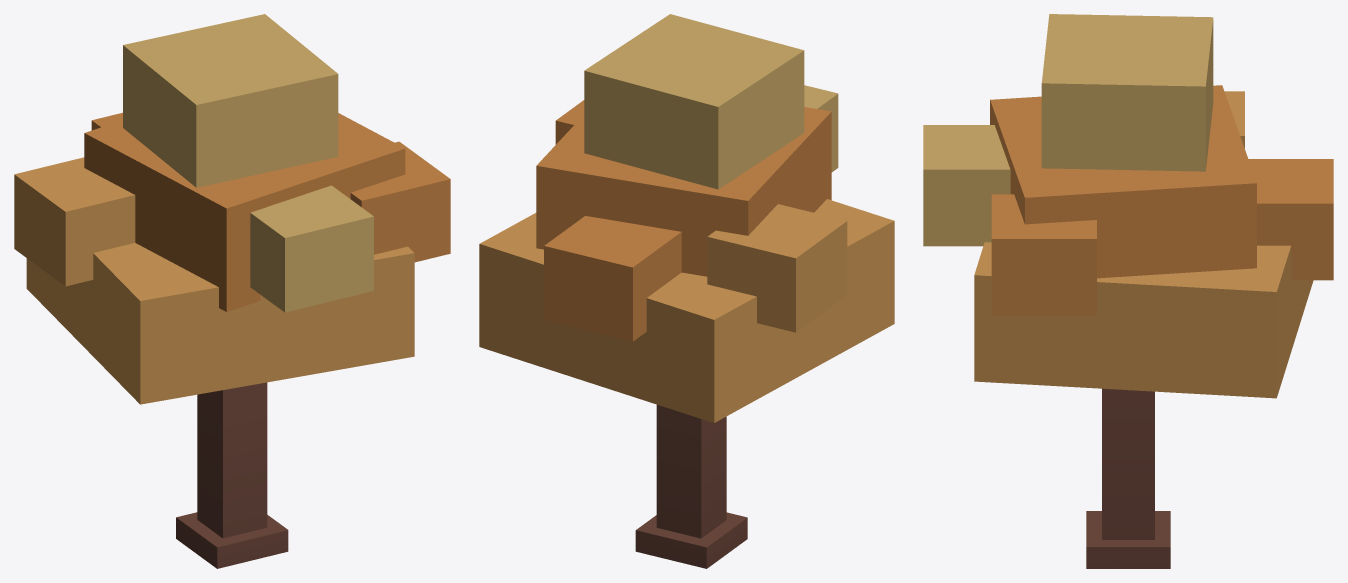
Rendered from autumn-tree.glb.
3 views of the same model, side by side, from view 1: azimuth 30°, elevation 25°; view 2: azimuth 150°, elevation 25°; view 3: azimuth 270°, elevation 25° (orthographic). The views are drawn at different scales.
Visible parts, largest first — view 1: autumn-tree_body; view 2: autumn-tree_body; view 3: autumn-tree_body.
Boxes of the visible parts, bbox=[...] form: autumn-tree_body: bbox=[14, 14, 450, 568]; autumn-tree_body: bbox=[479, 14, 894, 568]; autumn-tree_body: bbox=[923, 14, 1333, 568].
Size of the model in its own units: 3.8 by 5.64 by 4.2.
